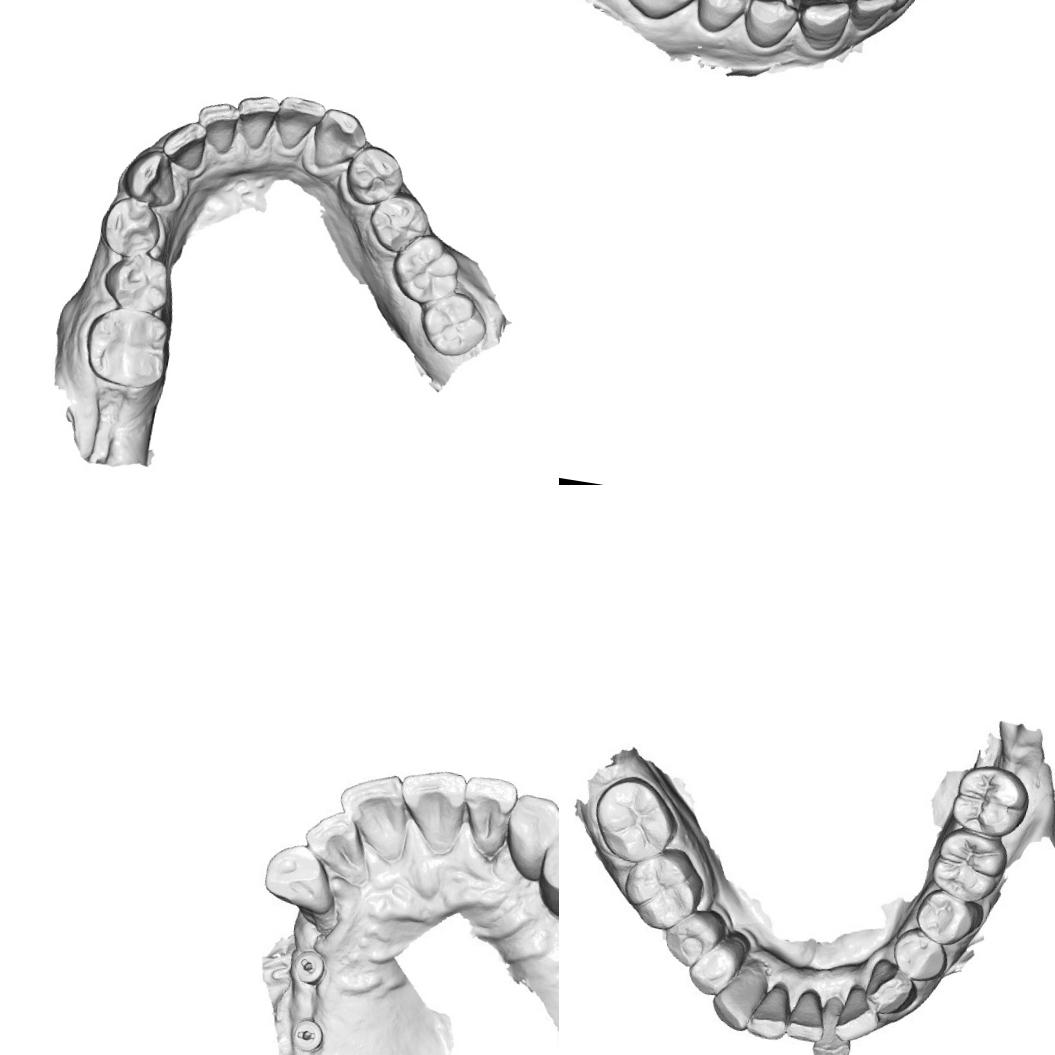canine: (258, 842, 340, 924), (497, 789, 559, 887), (704, 959, 767, 1042), (308, 105, 370, 174), (789, 0, 858, 61), (119, 146, 183, 209), (866, 956, 913, 1019)
implant_minus: (287, 1014, 326, 1055), (291, 945, 330, 985)
incisor: (333, 774, 420, 863), (450, 772, 524, 864), (400, 770, 465, 848), (305, 812, 376, 883), (747, 980, 798, 1046), (230, 92, 282, 154), (272, 94, 325, 154), (833, 982, 884, 1044), (782, 982, 830, 1042), (160, 118, 210, 174), (192, 99, 240, 156), (813, 998, 855, 1055), (843, 0, 898, 37), (862, 0, 926, 13)
molar: (78, 302, 176, 392), (592, 776, 675, 862), (622, 848, 701, 928), (388, 229, 464, 308), (415, 286, 492, 363), (949, 766, 1030, 836), (934, 830, 1010, 902)
premolar: (101, 248, 175, 314), (97, 194, 166, 262), (364, 190, 432, 258), (342, 142, 408, 210), (686, 936, 746, 999), (914, 888, 978, 947), (665, 911, 722, 968), (741, 0, 799, 56), (895, 930, 947, 983), (532, 824, 559, 923), (690, 0, 758, 38)
